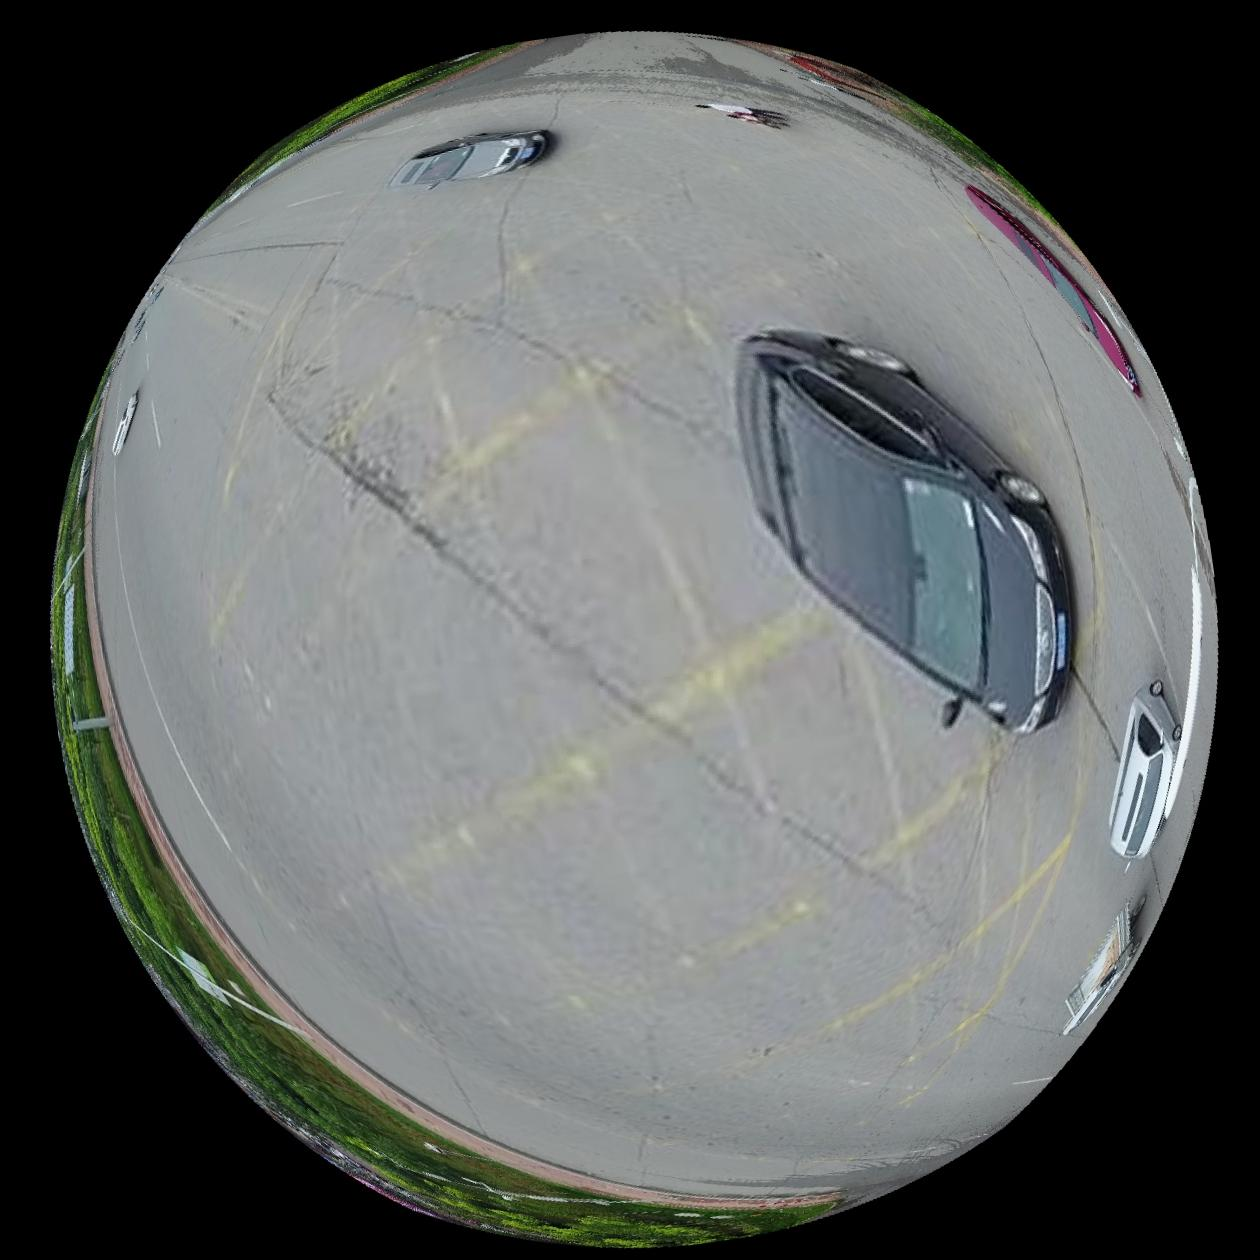cars: (735, 328, 1073, 734), (967, 182, 1142, 393), (1110, 680, 1184, 861), (1063, 897, 1147, 1035), (389, 127, 548, 183), (110, 389, 137, 455)
trees: (51, 399, 830, 1247)
